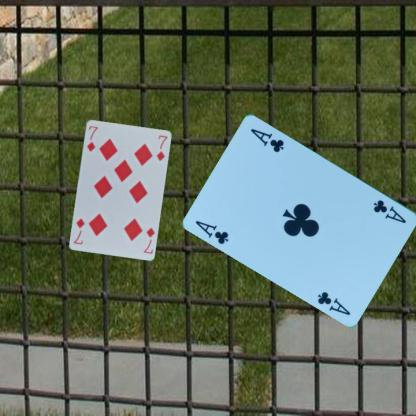7d: (84, 123, 99, 153), (141, 225, 156, 255)
Ac: (193, 217, 231, 246), (371, 197, 408, 225)
